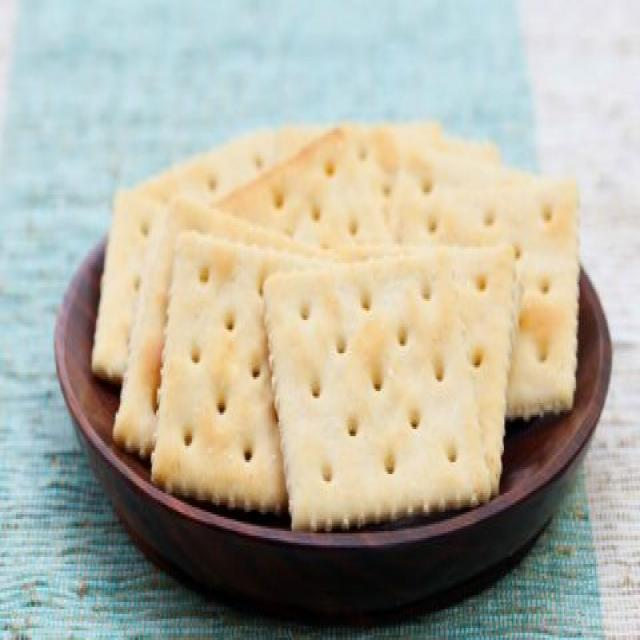Cracker: (253, 242, 491, 524)
